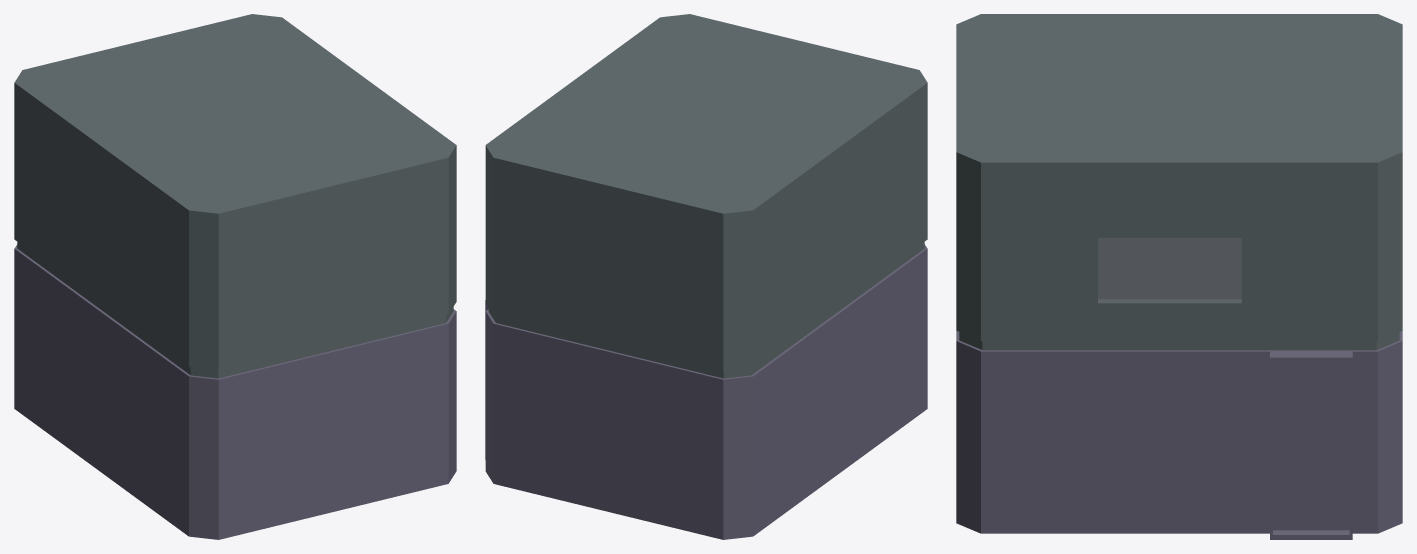
3 renders of one model, left to right at view 1: azimuth 30°, elevation 25°; view 2: azimuth 150°, elevation 25°; view 3: azimuth 270°, elevation 25°, orthographic. The views are drawn at different scales.
Visible parts, largest first — view 1: pasted__polySurface89; view 2: pasted__polySurface89; view 3: pasted__polySurface89.
Part boxes in pixels (x1,y1,x2,y2): pasted__polySurface89: [14, 14, 456, 539]; pasted__polySurface89: [485, 14, 927, 539]; pasted__polySurface89: [956, 14, 1402, 539].
Size of the model in its own units: 5.82 by 6.51 by 7.1.
